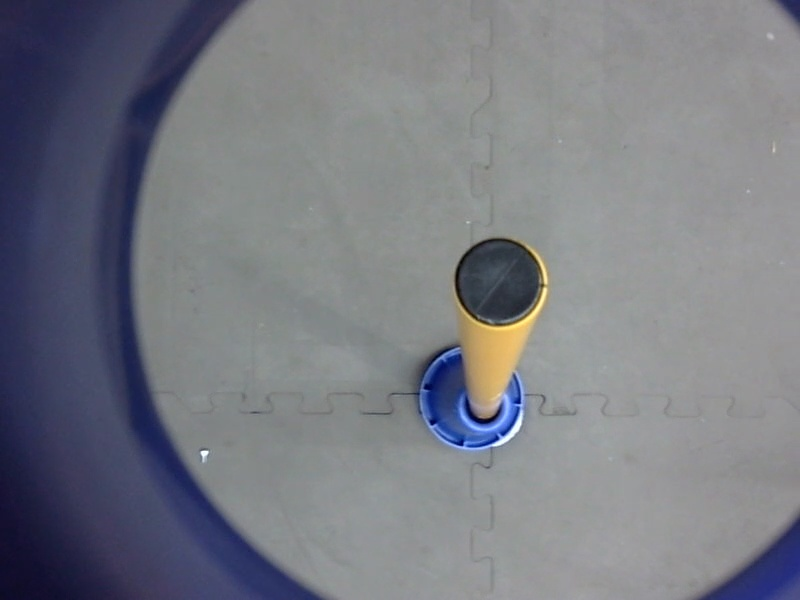tip: (446, 230, 555, 339)
